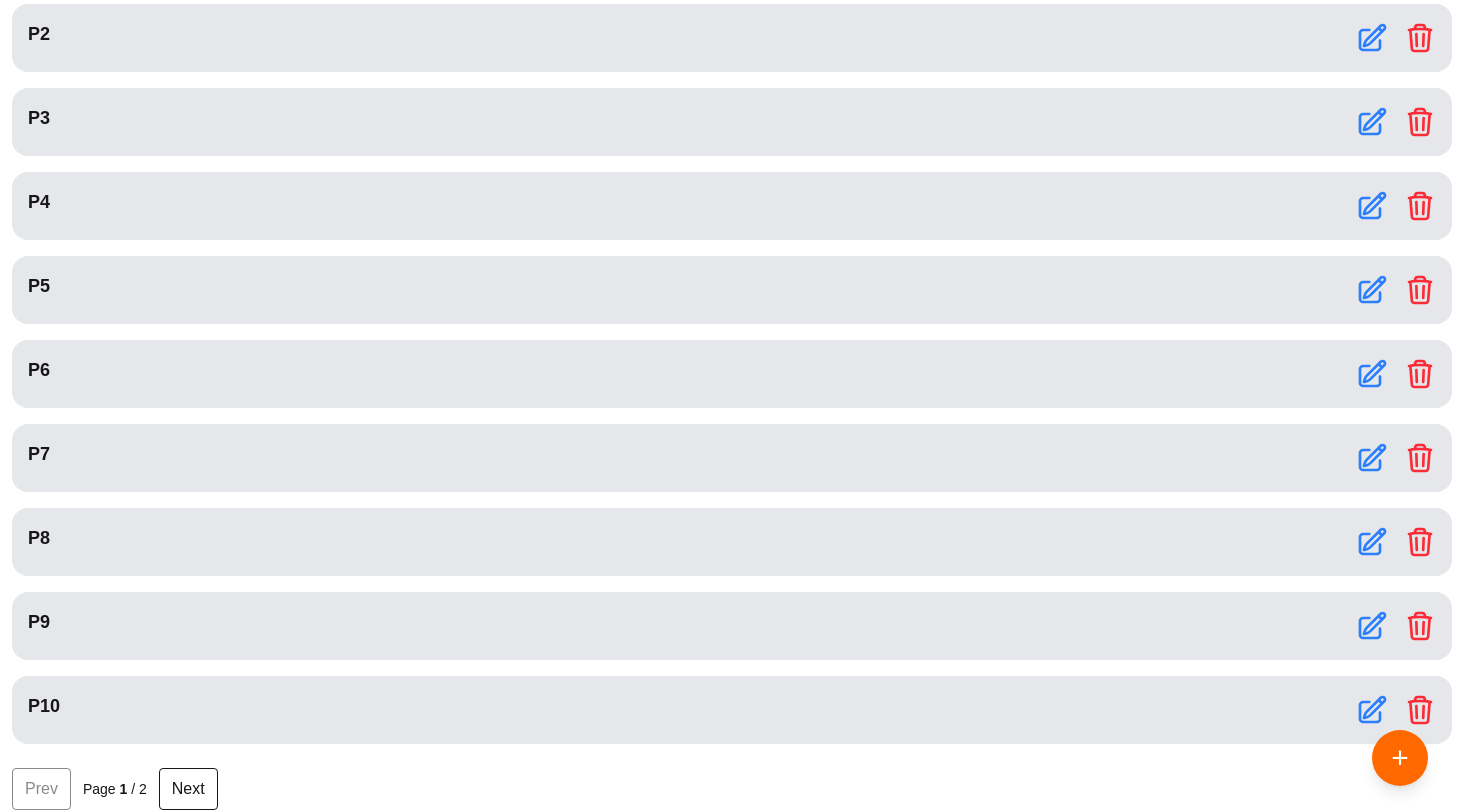
ProjectsPage - pagination behavior (server envelope) › navigates to next page and requests correct pageNumber/pageSize
The image size is (1464, 810).
(page scrolled)
Click the button with aria-label "Next page".
click(188, 789)  # box [159, 768, 218, 809]
(page scrolled)
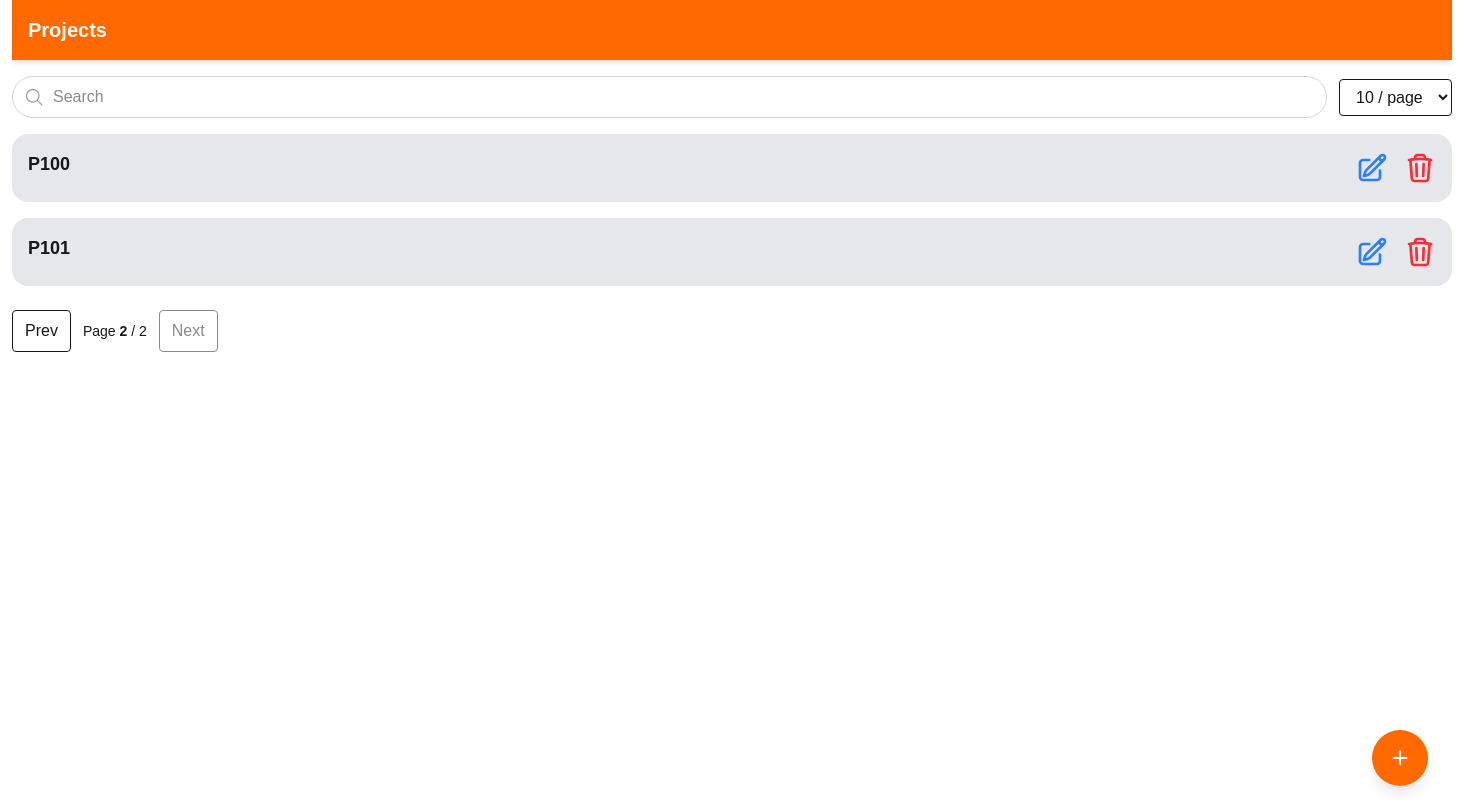
expect the heading "P100" is shown: met, box [28, 150, 70, 178]
